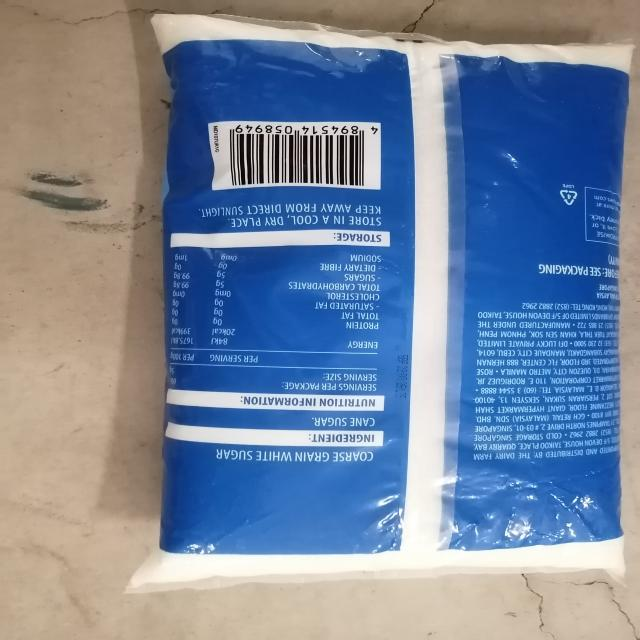object_name: (171, 17, 620, 571)
